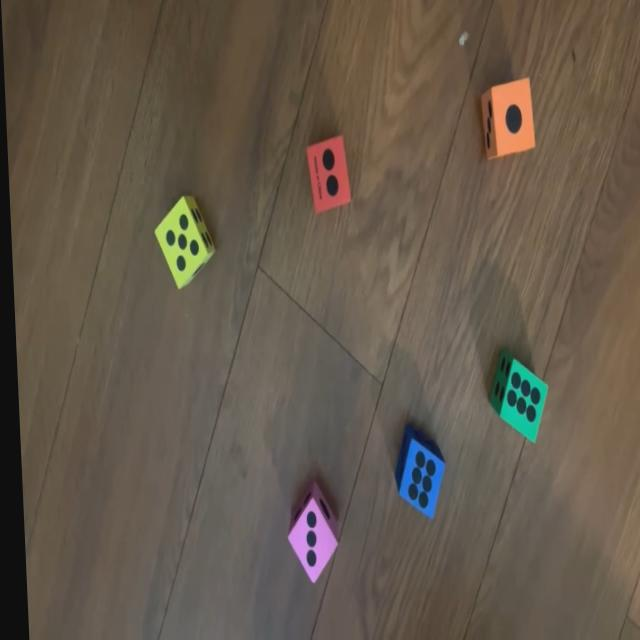cube: (483, 346, 546, 444), (387, 423, 442, 519), (303, 134, 349, 213)
